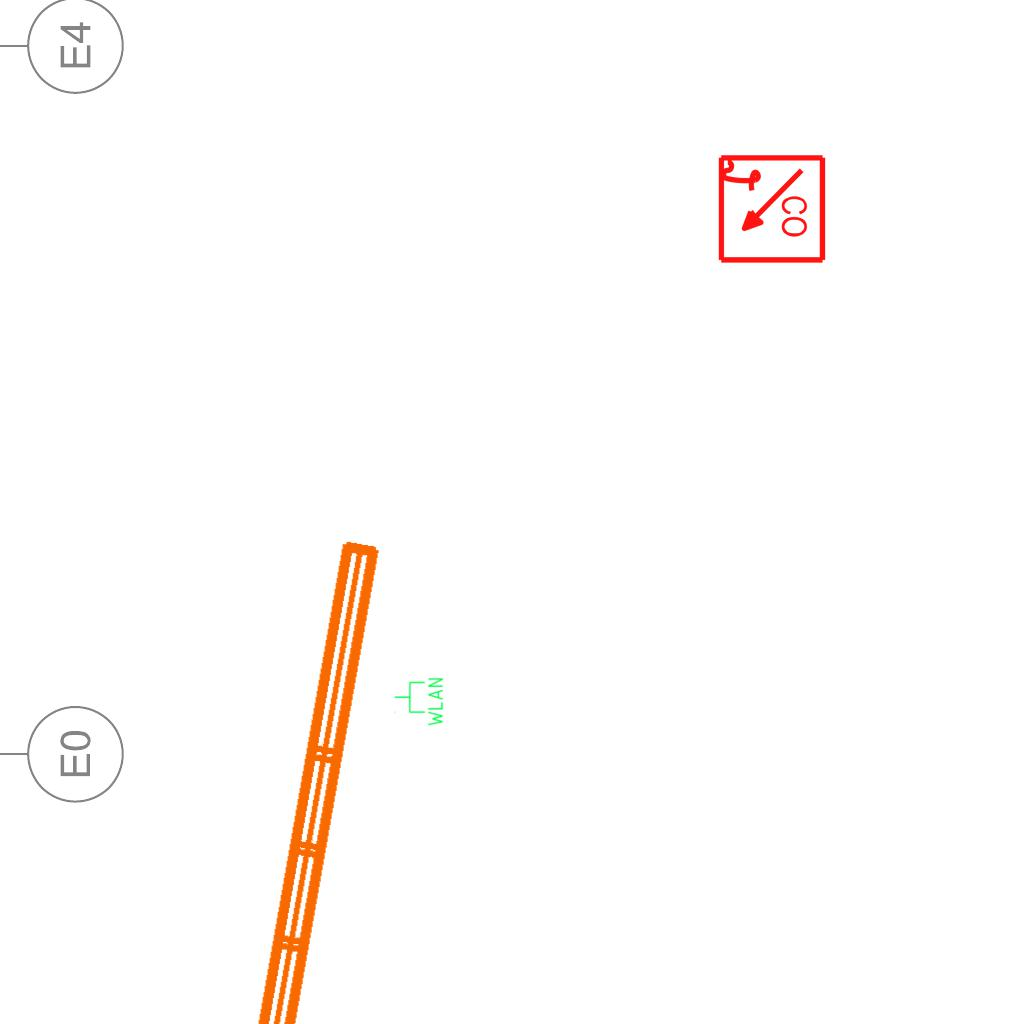Ambulanz_Pendelleuchte_LED: (198, 528, 444, 1024)
ROA_Rauchmelder_optisch_mit_Signalgeber_(Sockelsirene): (714, 153, 827, 266)
WLAN: (392, 675, 446, 729)
